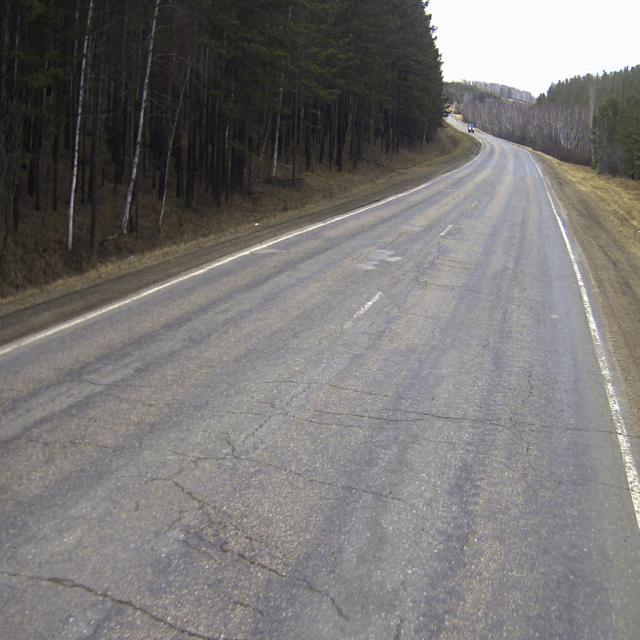road: (0, 131, 640, 639), (447, 115, 467, 131)
